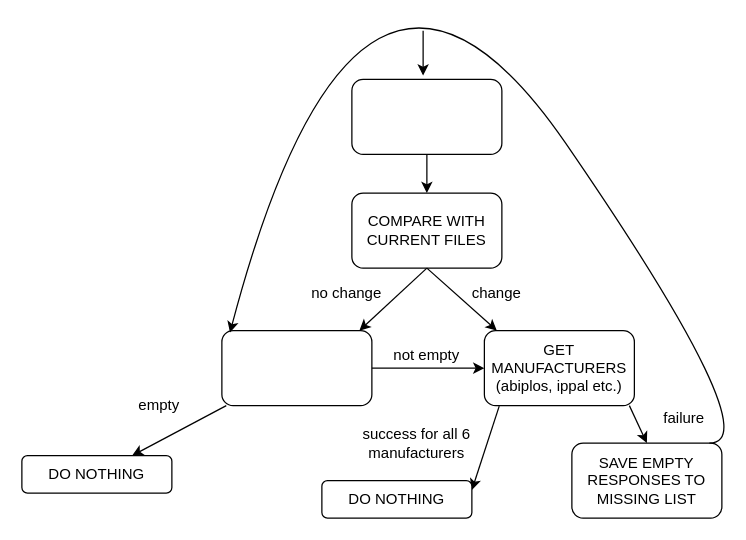
The diagram is 746 pixels wide and 540 high, and some of its shapes have lost their labels. The shapes that lost their labels are listed below. From the top down, each one's box as (x1, y1, x2, y2) in pixels, then its label:
(351, 78, 502, 154): GET PRODUCT BY CATEGORY (Beanie, Facemask, Glove)
(221, 329, 372, 406): CHECK MISSING MANUFACTURERS LIST
